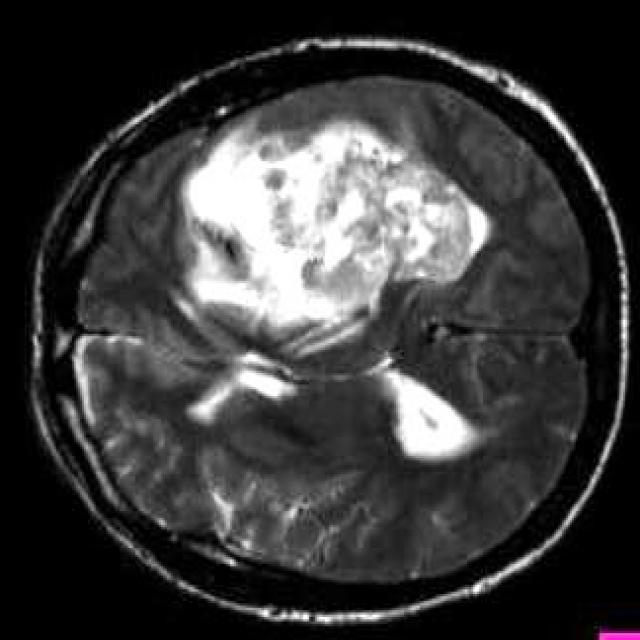tumor: (170, 117, 488, 357)
